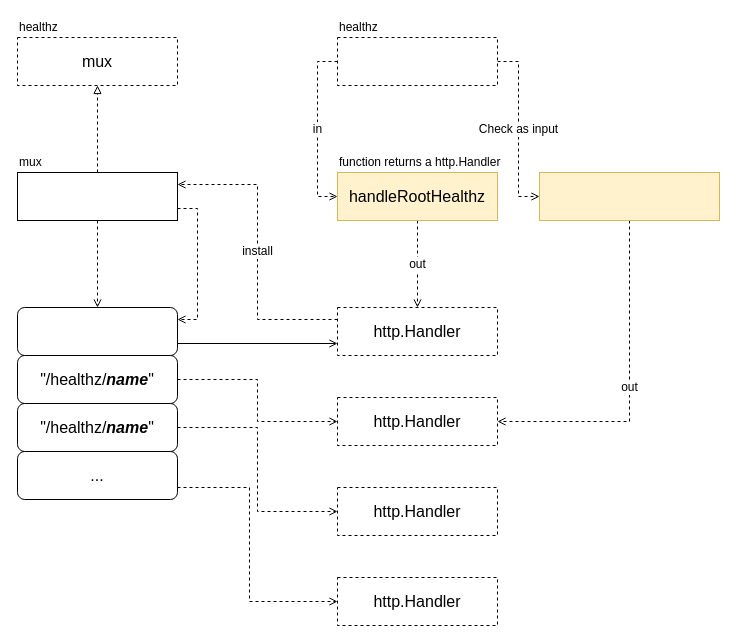
The diagram is 737 pixels wide and 643 high, and some of its shapes have lost their labels. Each missing label, with the centre of its shape:
"/healthz": point 97,331
adapterCheckToHandler: point 629,196
HealthzChecker: point 417,61
PathRecorderMux: point 97,196
